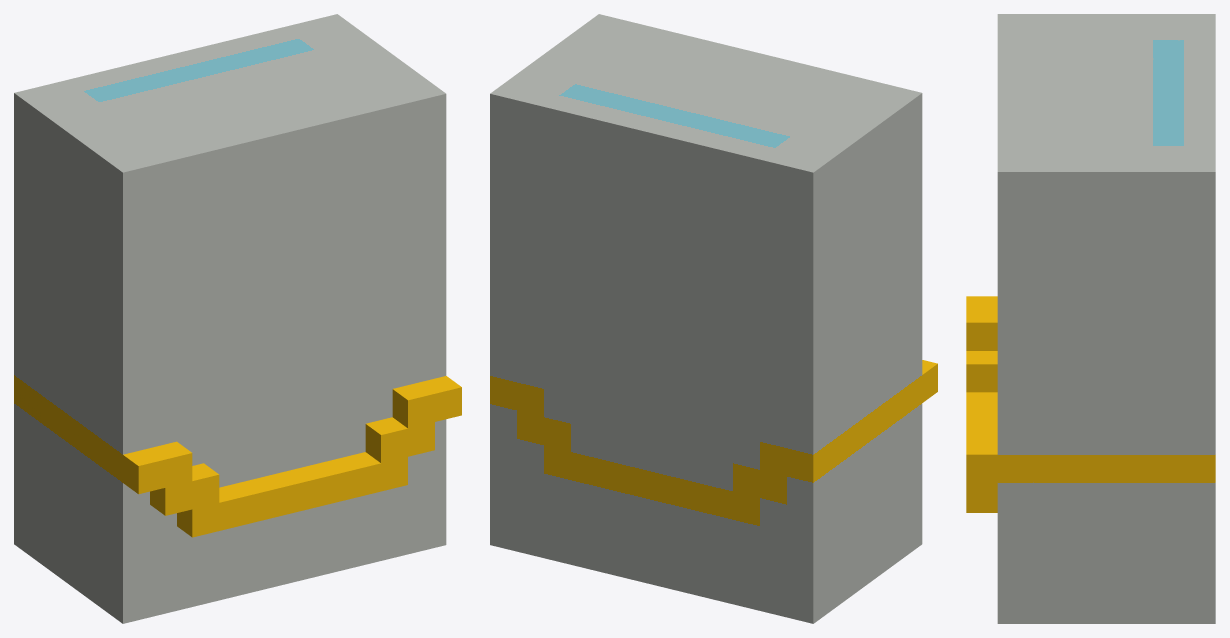
File: Torso.fbx
The picture shows the model from 3 angles, left to right: view 1: azimuth 30°, elevation 25°; view 2: azimuth 150°, elevation 25°; view 3: azimuth 270°, elevation 25°; orthographic projection.
Parts seen in each view (by area): view 1: Torso.001; view 2: Torso.001; view 3: Torso.001.
Part boxes in pixels (x1=…): Torso.001: x1=14, y1=14, x2=461, y2=623; Torso.001: x1=490, y1=14, x2=937, y2=623; Torso.001: x1=966, y1=14, x2=1215, y2=623.
Bounding box in the file's own units: 1.2 × 1.6 × 0.8.
1 material, 1 textured.
